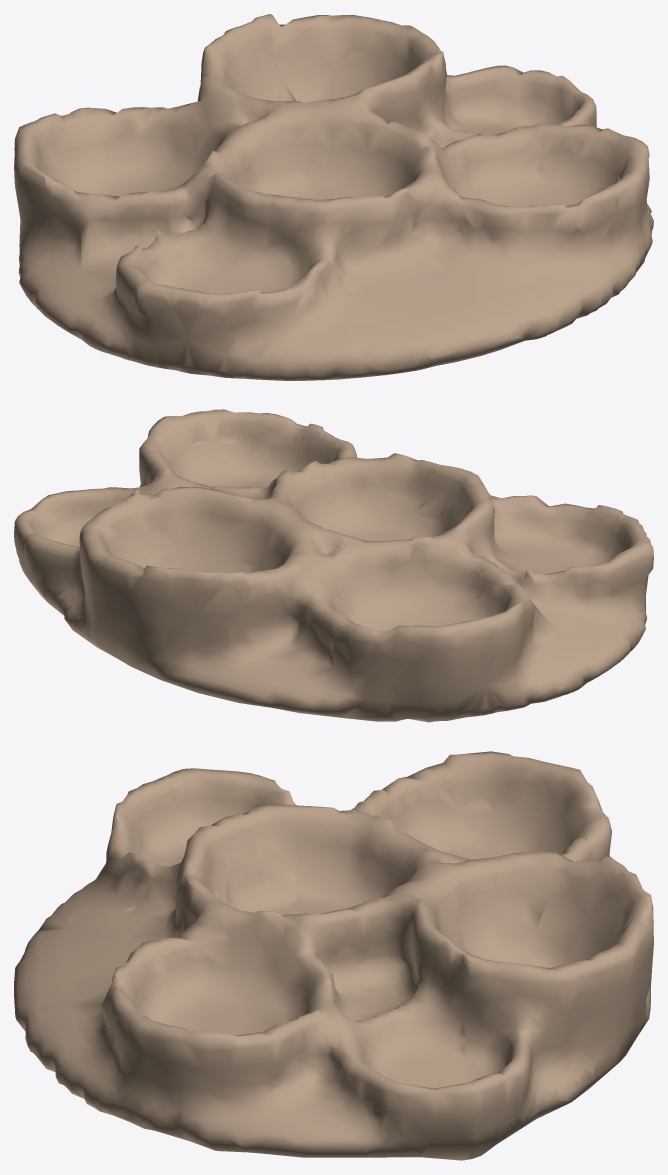
Rendered from pleurodictyum.glb.
The picture shows the model from 3 angles, top to bottom: view 1: azimuth 30°, elevation 25°; view 2: azimuth 150°, elevation 25°; view 3: azimuth 270°, elevation 25°; orthographic projection. The views are drawn at different scales.
Visible parts, largest first — view 1: low-domed-colony-disc-with-few-adjoining-large-calyces; view 2: low-domed-colony-disc-with-few-adjoining-large-calyces; view 3: low-domed-colony-disc-with-few-adjoining-large-calyces.
Boxes of the visible parts, x1=… form: low-domed-colony-disc-with-few-adjoining-large-calyces: x1=14, y1=14, x2=653, y2=380; low-domed-colony-disc-with-few-adjoining-large-calyces: x1=14, y1=409, x2=653, y2=722; low-domed-colony-disc-with-few-adjoining-large-calyces: x1=14, y1=751, x2=653, y2=1160.
Bounding box in the file's own units: 0.0898 × 0.024 × 0.0752.
